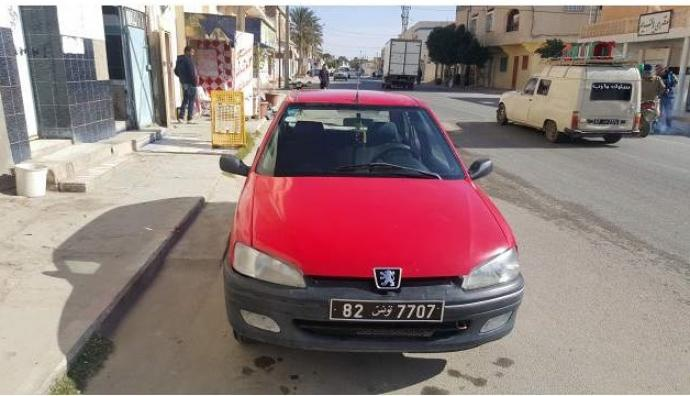LP: (326, 297, 445, 323)
